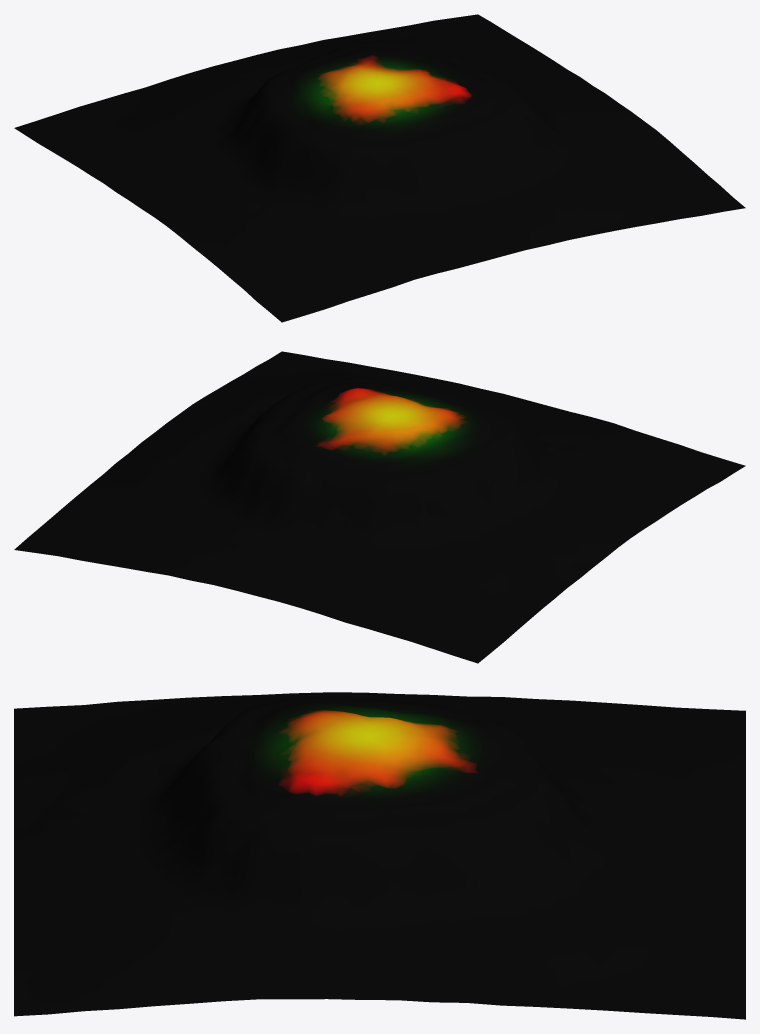
File: lookout_terrain.glb
3 renders of one model, top to bottom at view 1: azimuth 30°, elevation 25°; view 2: azimuth 150°, elevation 25°; view 3: azimuth 270°, elevation 25°, orthographic. The views are drawn at different scales.
Visible parts, largest first — view 1: lookout_terrain; view 2: lookout_terrain; view 3: lookout_terrain.
Boxes of the visible parts, <box> form: lookout_terrain: <box>14,14,745,322</box>; lookout_terrain: <box>14,351,745,663</box>; lookout_terrain: <box>14,692,745,1019</box>.
Bounding box in the file's own units: 147 × 27.78 × 147.
